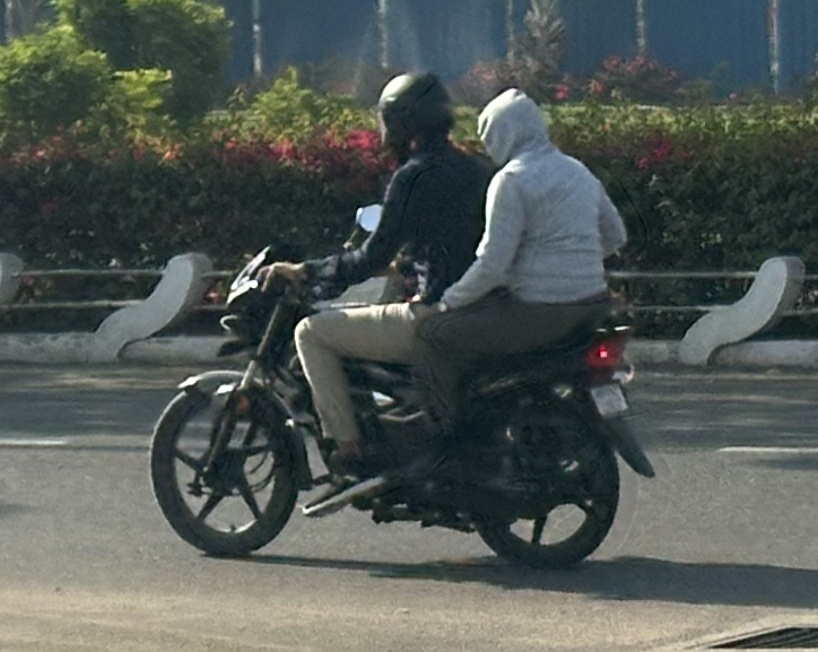BikeWithRider: (137, 60, 666, 578)
Helmet: (366, 62, 464, 167)
NoHelmet: (468, 81, 561, 171)
